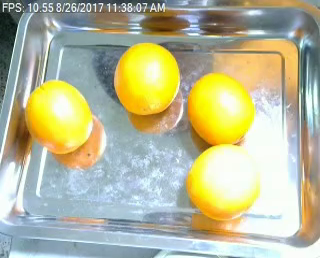Orange: (186, 143, 261, 220), (25, 78, 93, 153), (186, 73, 255, 145), (114, 43, 180, 115)
